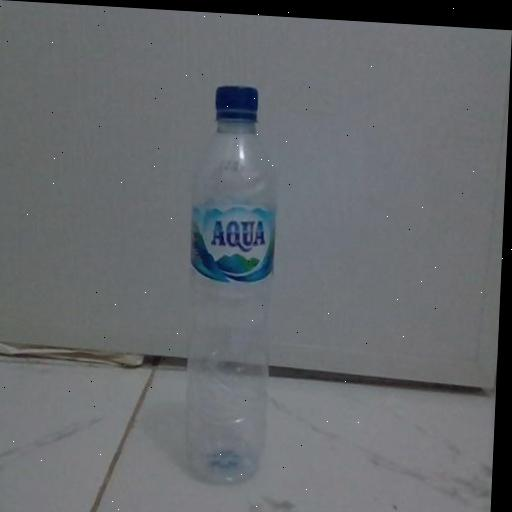bottle: (159, 56, 302, 505)
